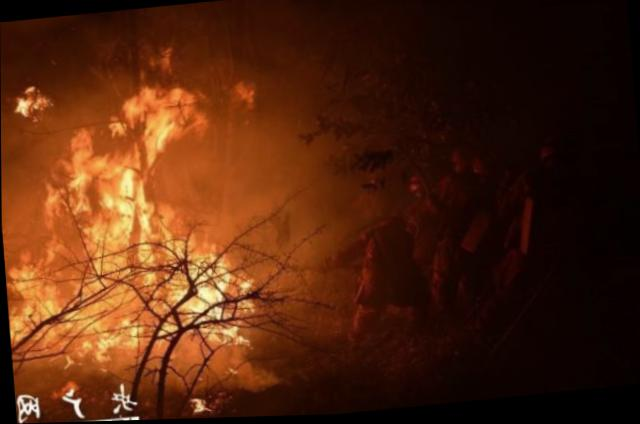fire: (0, 44, 259, 383)
